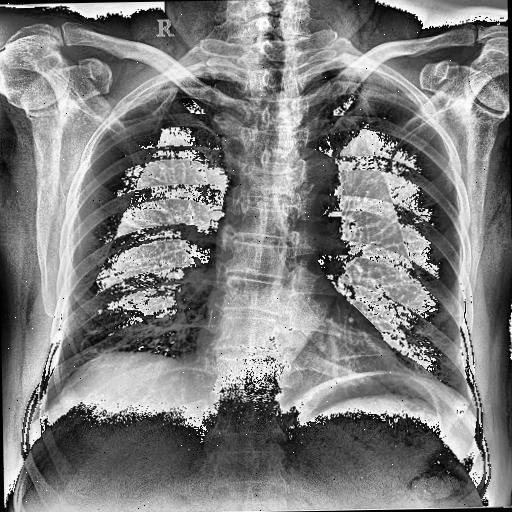2- Calcification: (82, 298, 124, 326), (87, 294, 113, 324), (87, 304, 108, 320)
